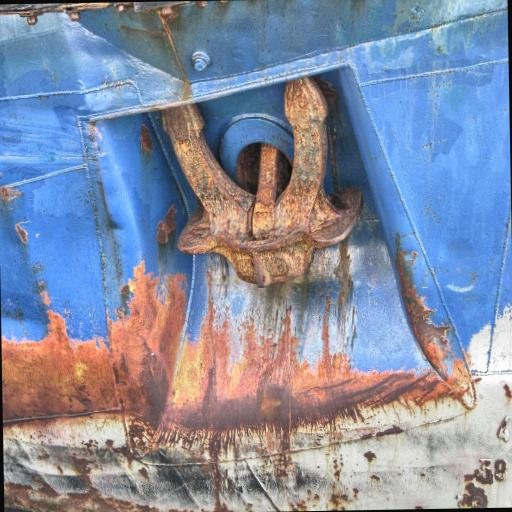segmentation: (112, 221, 476, 462), (162, 78, 363, 287), (1, 310, 120, 420), (111, 261, 186, 425), (395, 234, 454, 380), (4, 479, 160, 512), (0, 1, 191, 25), (157, 6, 187, 82), (156, 203, 177, 243), (458, 482, 488, 508), (212, 464, 224, 511), (140, 124, 153, 152), (0, 186, 22, 202), (472, 468, 493, 484), (15, 223, 28, 244), (495, 459, 506, 481), (67, 9, 81, 21), (364, 451, 376, 462)
